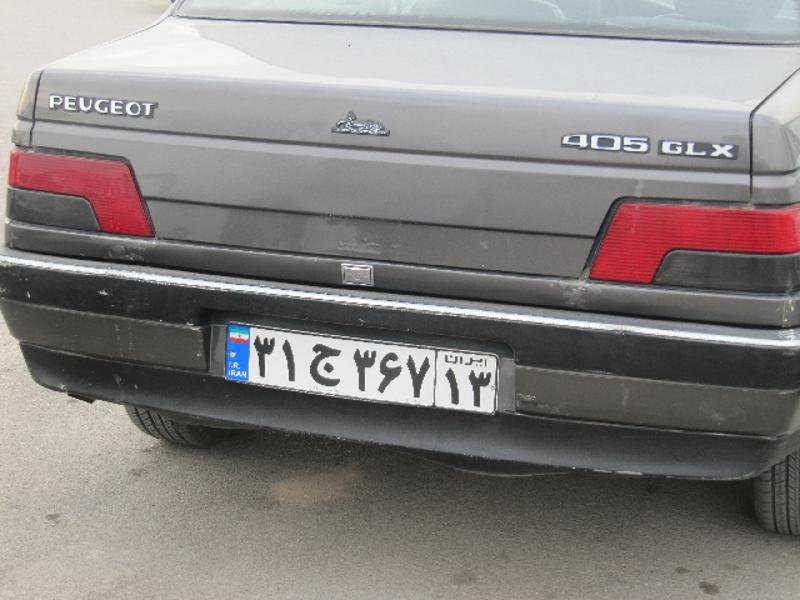Plate: (221, 324, 517, 407)
